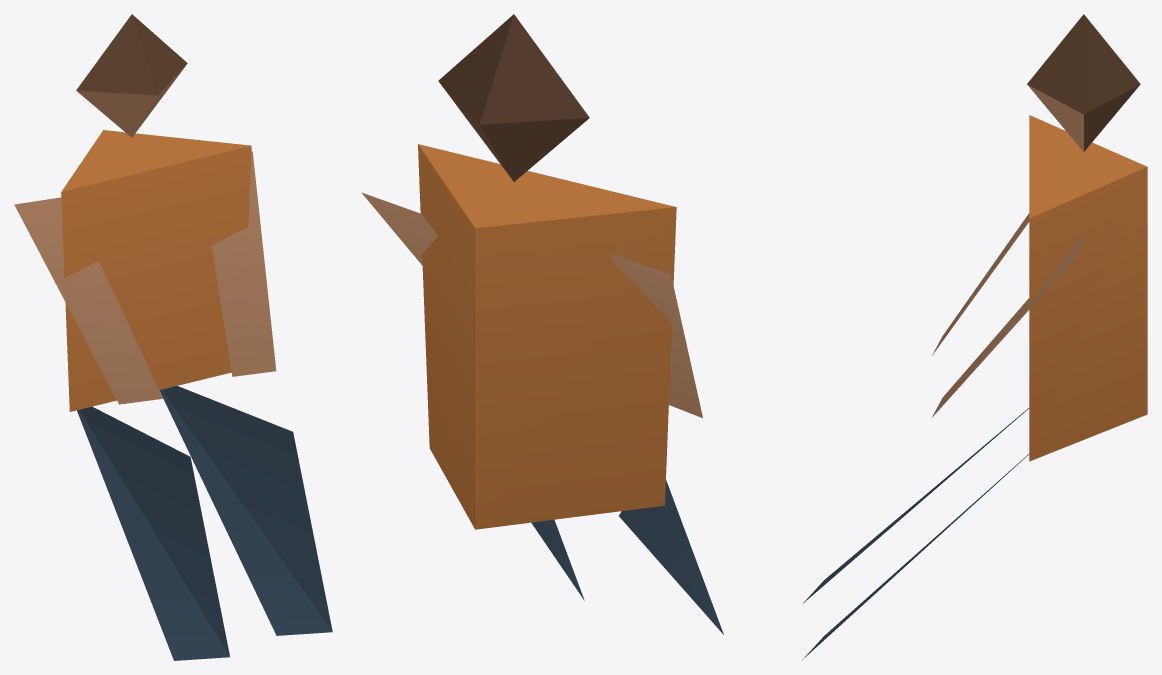
File: fan-09.glb
3 renders of one model, left to right at view 1: azimuth 30°, elevation 25°; view 2: azimuth 150°, elevation 25°; view 3: azimuth 270°, elevation 25°, orthographic. The views are drawn at different scales.
Visible parts, largest first — view 1: fan-09; view 2: fan-09; view 3: fan-09.
Boxes of the visible parts, x1,y1,x2,y2 form: fan-09: (14,14,332,660); fan-09: (361,14,723,634); fan-09: (802,14,1147,659).
Bounding box in the file's own units: 0.66 × 1.47 × 0.76.
